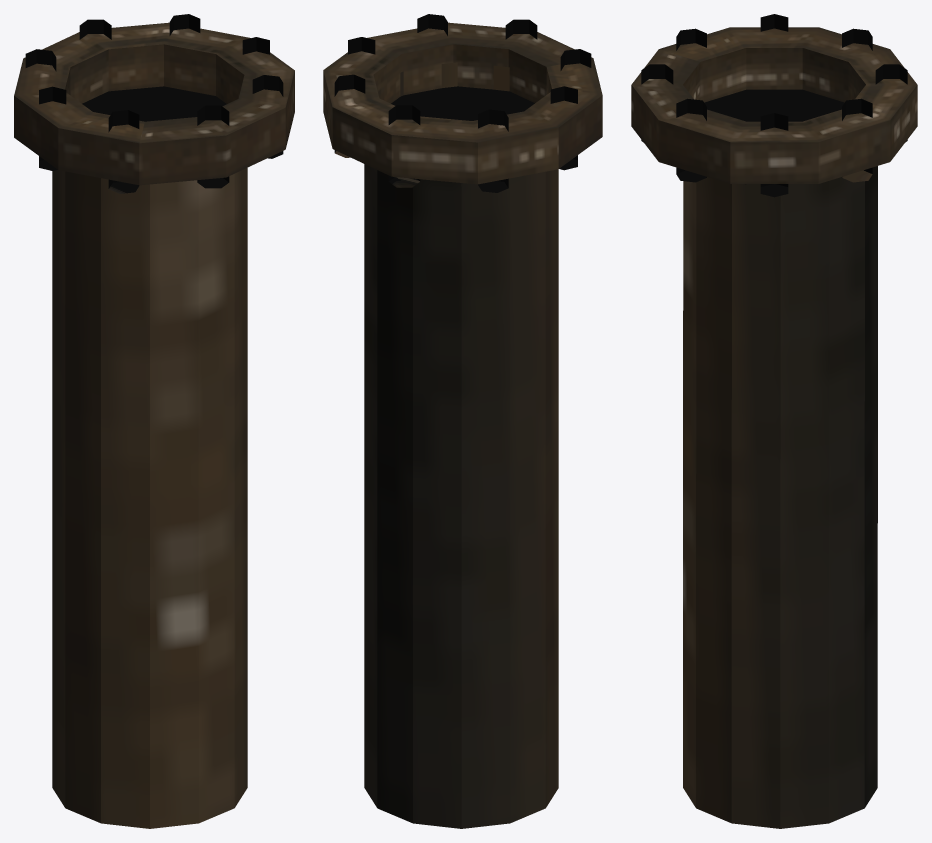
The model's file is Pipe 5.fbx.
3 views of the same model, side by side, from view 1: azimuth 30°, elevation 25°; view 2: azimuth 150°, elevation 25°; view 3: azimuth 270°, elevation 25° (orthographic).
Parts seen in each view (by area): view 1: Pipes 5; view 2: Pipes 5; view 3: Pipes 5.
Boxes of the visible parts, x1,y1,x2,y2 form: Pipes 5: (14,14,294,828); Pipes 5: (323,14,602,828); Pipes 5: (631,14,917,828).
Size of the model in its own units: 24 by 69.91 by 25.23.
